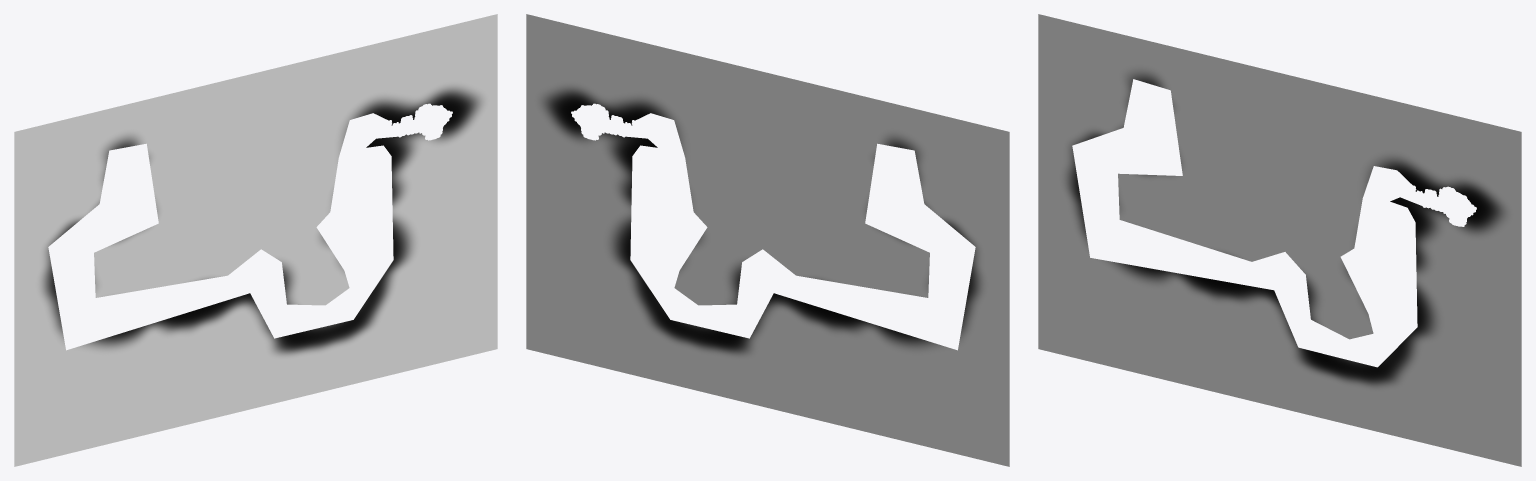
The model's file is L1-TutorialTree.obj.
3 renders of one model, left to right at view 1: azimuth 30°, elevation 25°; view 2: azimuth 150°, elevation 25°; view 3: azimuth 330°, elevation 25°, orthographic.
Parts seen in each view (by area): view 1: L1-TutorialTree_L1-TutorialTree; view 2: L1-TutorialTree_L1-TutorialTree; view 3: L1-TutorialTree_L1-TutorialTree.
Boxes of the visible parts, <box> form: L1-TutorialTree_L1-TutorialTree: <box>14,14,497,466</box>; L1-TutorialTree_L1-TutorialTree: <box>526,14,1009,466</box>; L1-TutorialTree_L1-TutorialTree: <box>1038,14,1521,466</box>.
Bounding box in the file's own units: 706 × 468 × 9.7e-05.
1 material, 1 textured.
